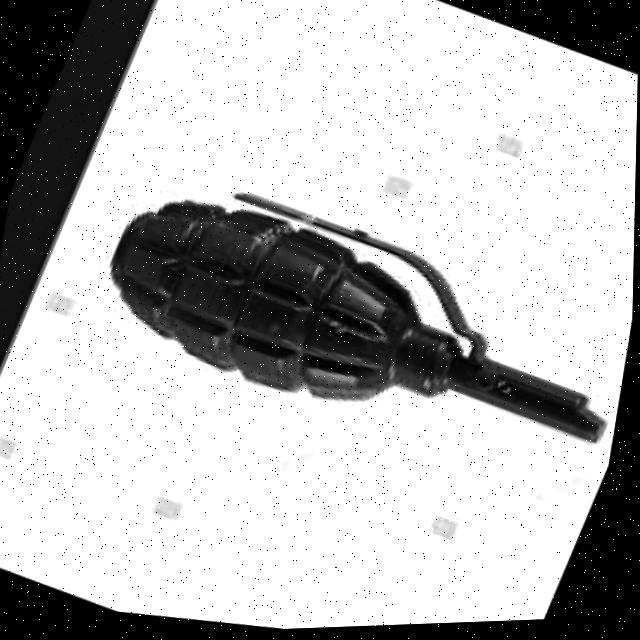grenade: (55, 132, 637, 535)
